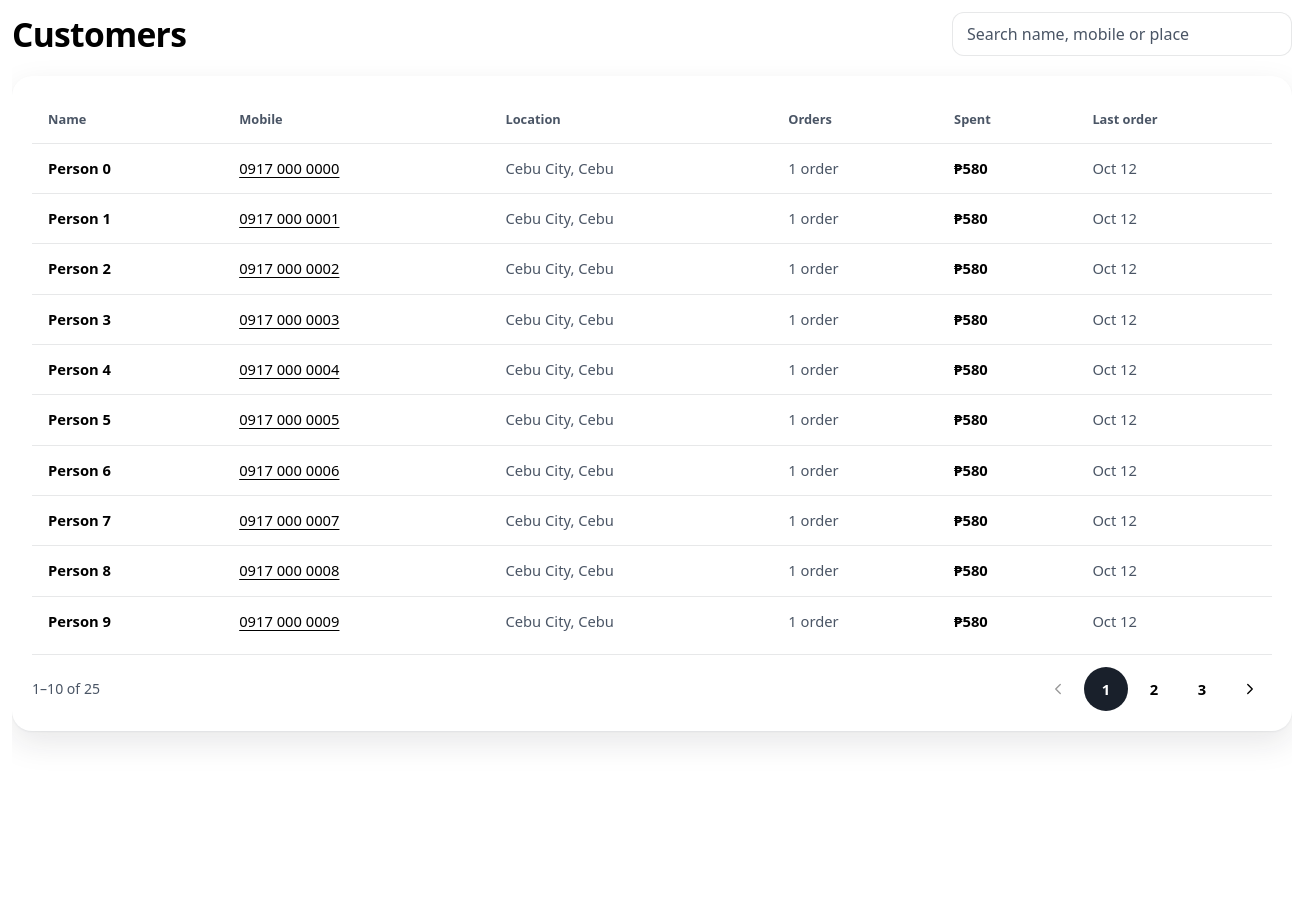
it: CustomersPage › shows ten to a page, newest first, and moves through them
The width and height of the screenshot is (1304, 912).
expect the navigation bar named "Pagination" shows "1–10 of 25": met, box [32, 679, 100, 698]
Click the button named "Page 3": point(1202, 689) [1180, 667, 1224, 711]
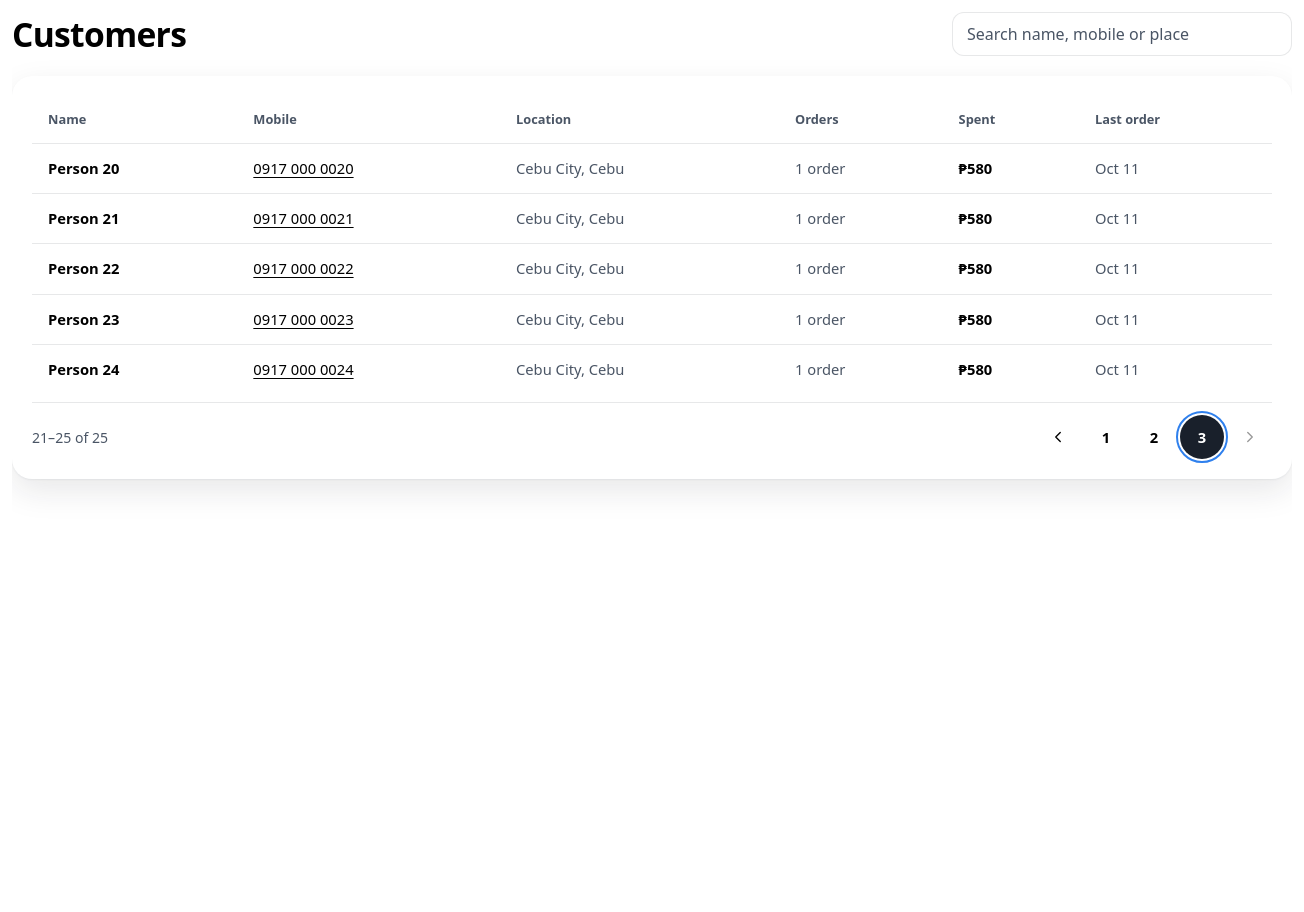
expect the navigation bar named "Pagination" shows "21–25 of 25": met, box [32, 428, 108, 447]
